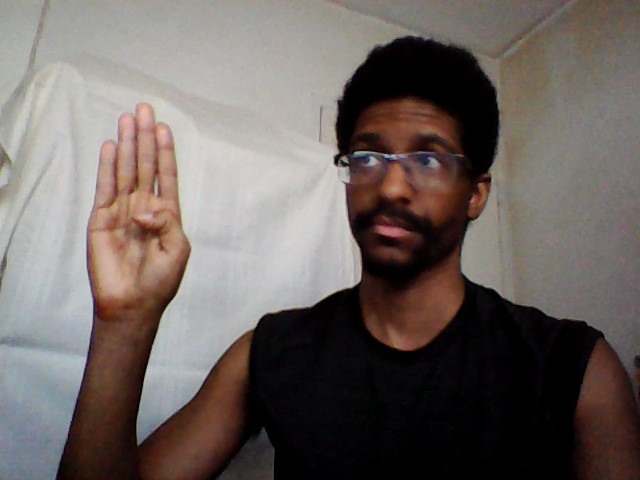b: (80, 98, 195, 324)
